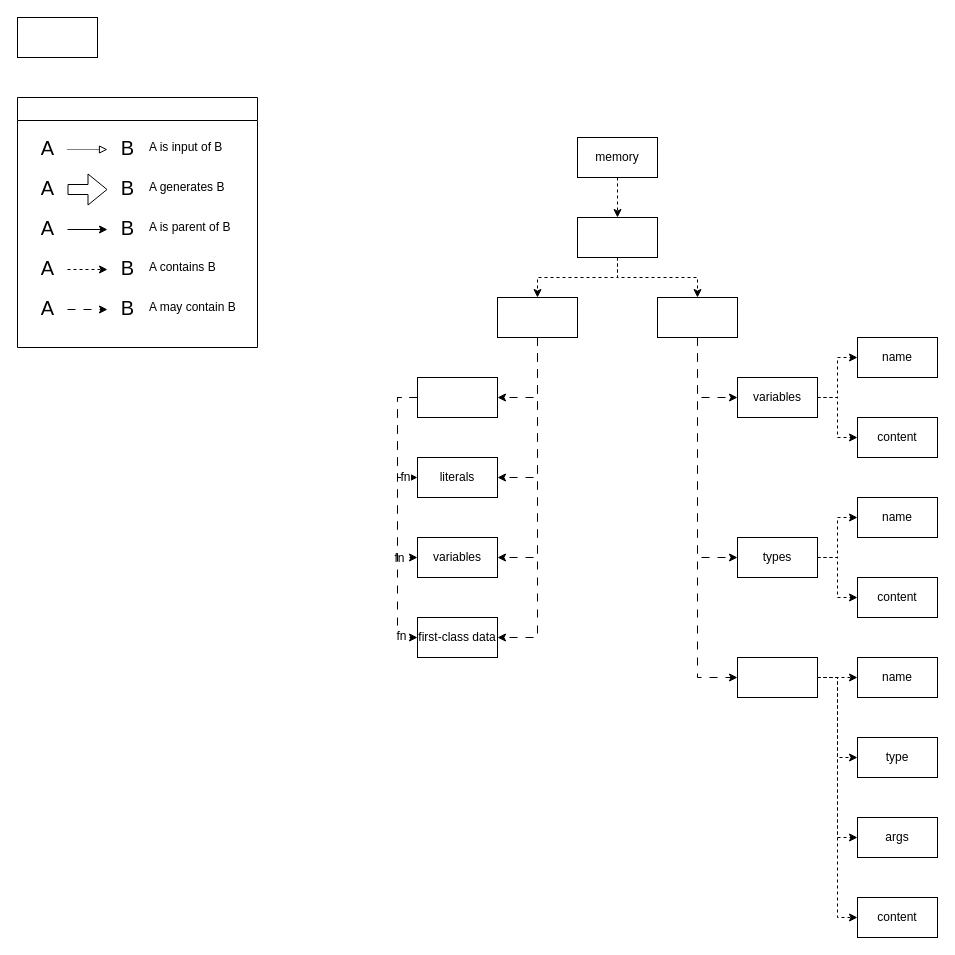
Some shapes in this 955 by 955 pixel diagram are drawn without their labels. The box of each missing label's shape, as (x1, y1, x2, y2) in pixels:
function results: (416, 376, 498, 418)
functions: (736, 656, 818, 698)
heap: (656, 296, 738, 338)
Legend: (16, 96, 258, 348)
memory manager: (16, 16, 98, 58)
scope: (576, 216, 658, 258)
stack: (496, 296, 578, 338)
